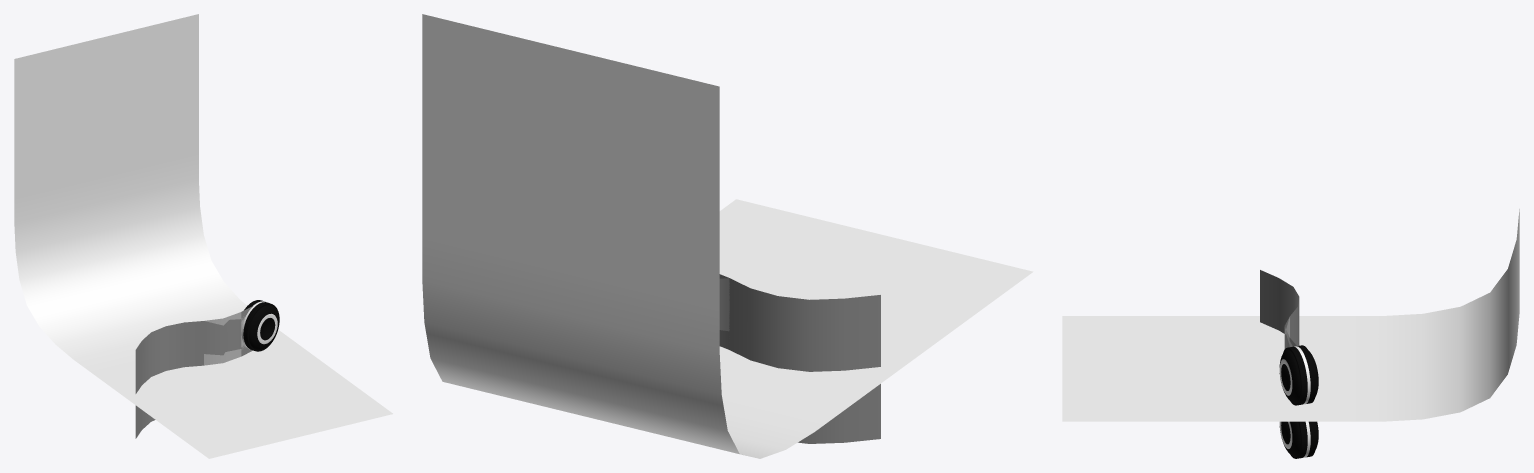
The model's file is Laser Floor.FBX.
3 renders of one model, left to right at view 1: azimuth 30°, elevation 25°; view 2: azimuth 150°, elevation 25°; view 3: azimuth 270°, elevation 25°, orthographic. The views are drawn at different scales.
Parts seen in each view (by area): view 1: Floor, Arrows, Trail Begin, Glowobject, Trail; view 2: Arrows, Floor, Trail Begin, Trail Begin Ref; view 3: Arrows, Floor, Trail Begin, Glowobject, Glowobject001.
Boxes of the visible parts, x1,y1,x2,y2 form: Floor: (14,14,379,450); Arrows: (55,260,392,458); Trail Begin: (135,306,252,393); Glowobject: (241,300,279,351); Trail: (204,312,245,365); Arrows: (422,14,1033,454); Floor: (719,199,1023,458); Trail Begin: (719,274,880,371); Trail Begin Ref: (798,384,880,443); Arrows: (1062,314,1423,421); Floor: (1062,209,1519,421); Trail Begin: (1260,270,1299,348); Glowobject: (1279,345,1318,405); Glowobject001: (1279,421,1318,458).
Bounding box in the file's own units: 7.5 × 11.77 × 13.71.
